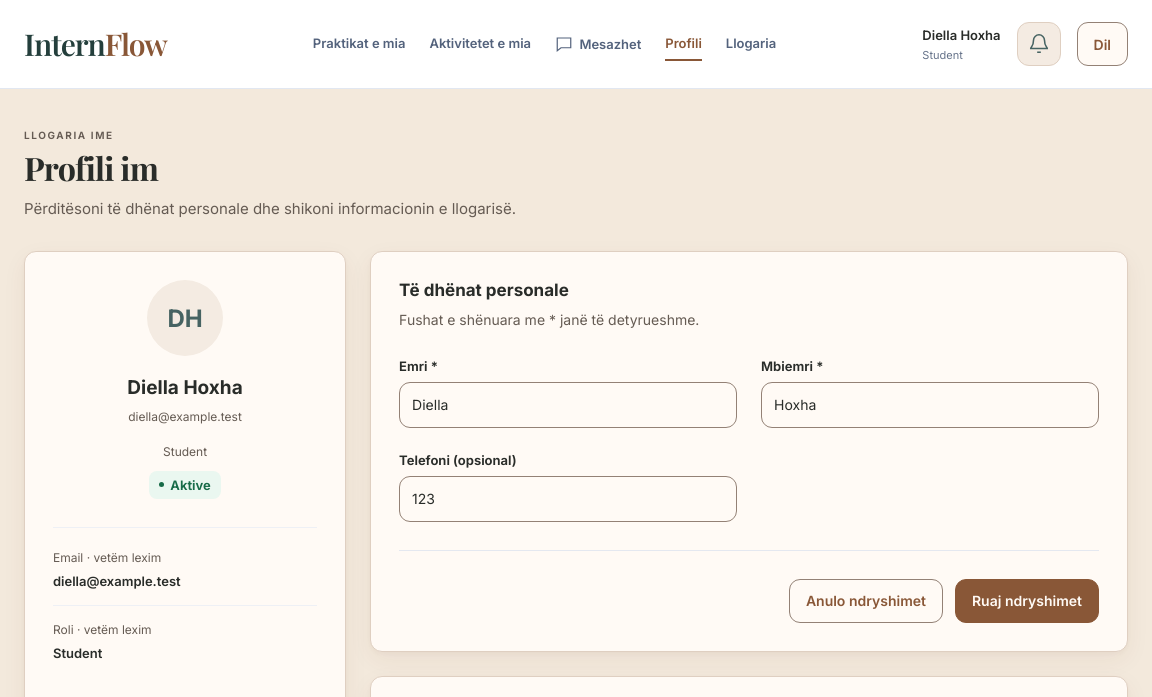
Test: self-service profile › resets unsaved changes and preserves profile navigation
This screenshot has width=1152, height=697.
Replace the text in the field labelled "Emri *" with "Draft" at point(568, 405), box [399,382,737,428]
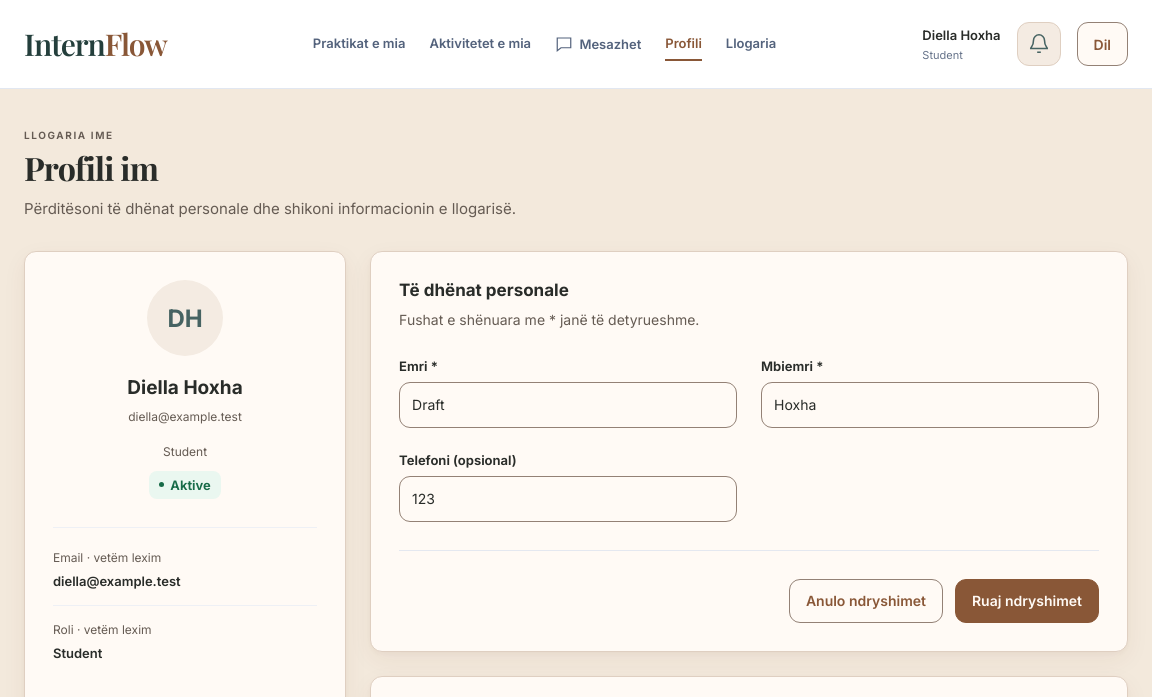
Click the button "Anulo ndryshimet" at point(866, 601), box [789,579,943,623]
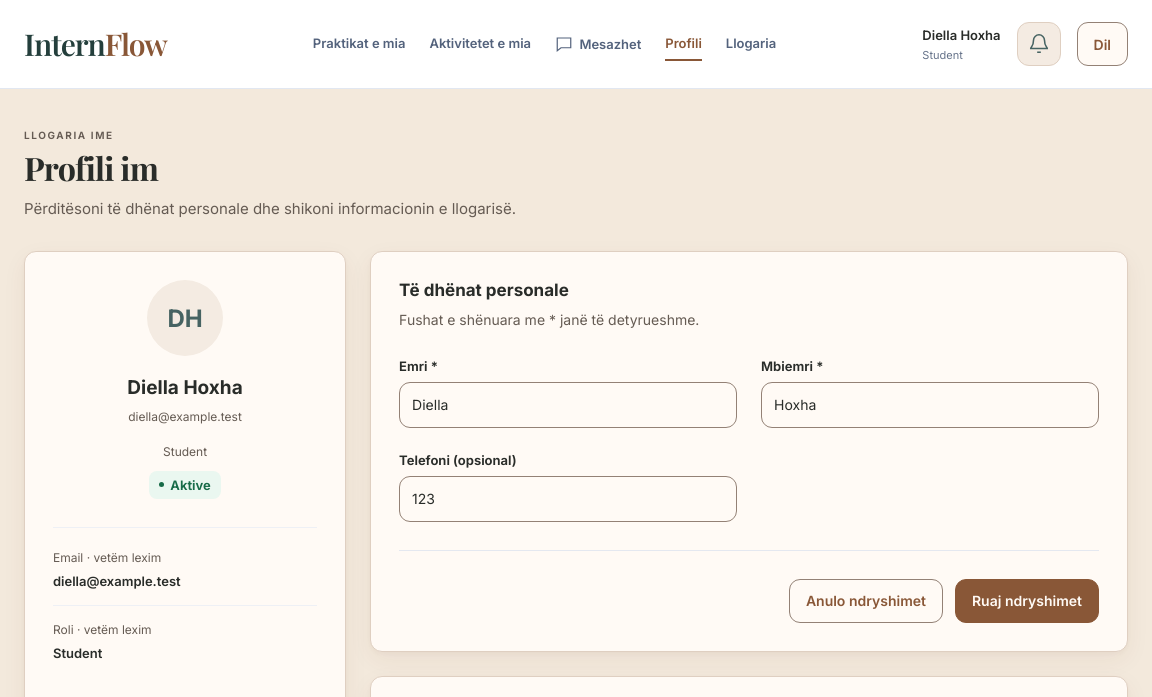
Expected: the field showing "Diella" is shown, [399,382,737,428]
